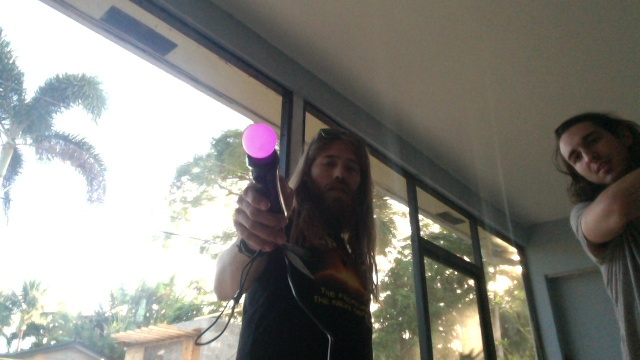wand: (243, 123, 277, 158)
